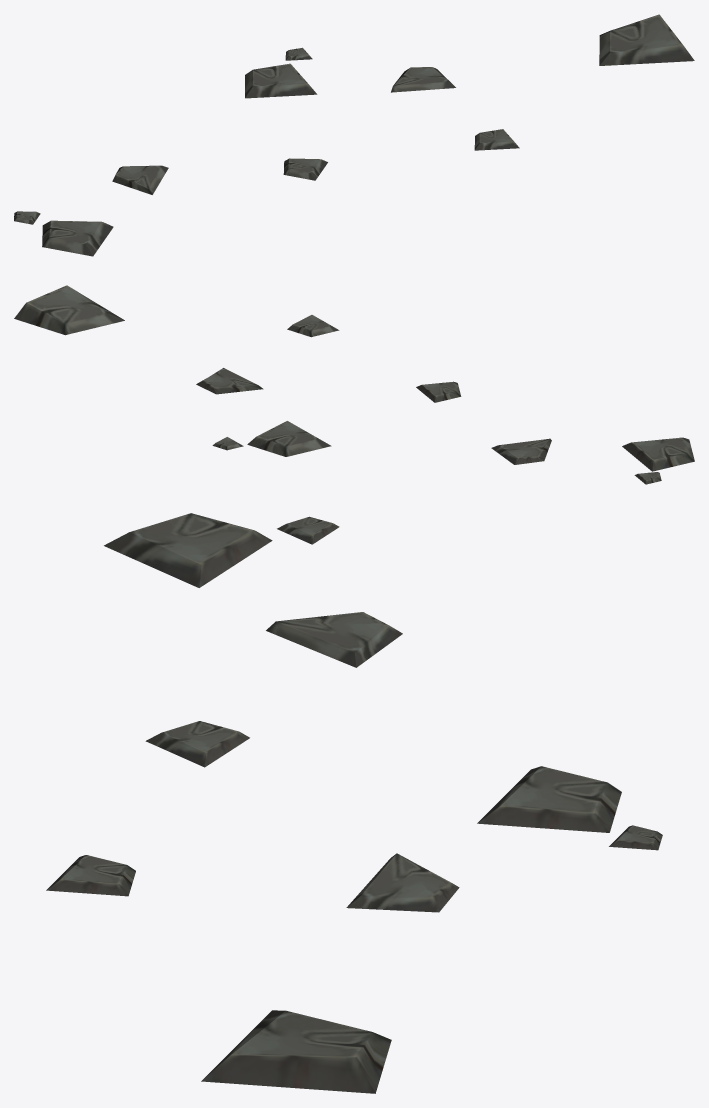
Rendered from cunlou_xiaowujian10.FBX.
3 views of the same model, one above another, from view 1: azimuth 30°, elevation 25°; view 2: azimuth 150°, elevation 25°; view 3: azimuth 270°, elevation 25° (orthographic). The views are drawn at different scales.
Parts seen in each view (by area): view 1: cunlou_xiaowujian10; view 2: cunlou_xiaowujian10; view 3: cunlou_xiaowujian10.
Part boxes in pixels (x1,y1,x2,y2): cunlou_xiaowujian10: (14, 14, 694, 256); cunlou_xiaowujian10: (14, 285, 694, 484); cunlou_xiaowujian10: (46, 513, 662, 1093).
Bounding box in the file's own units: 279 × 15.43 × 117.
